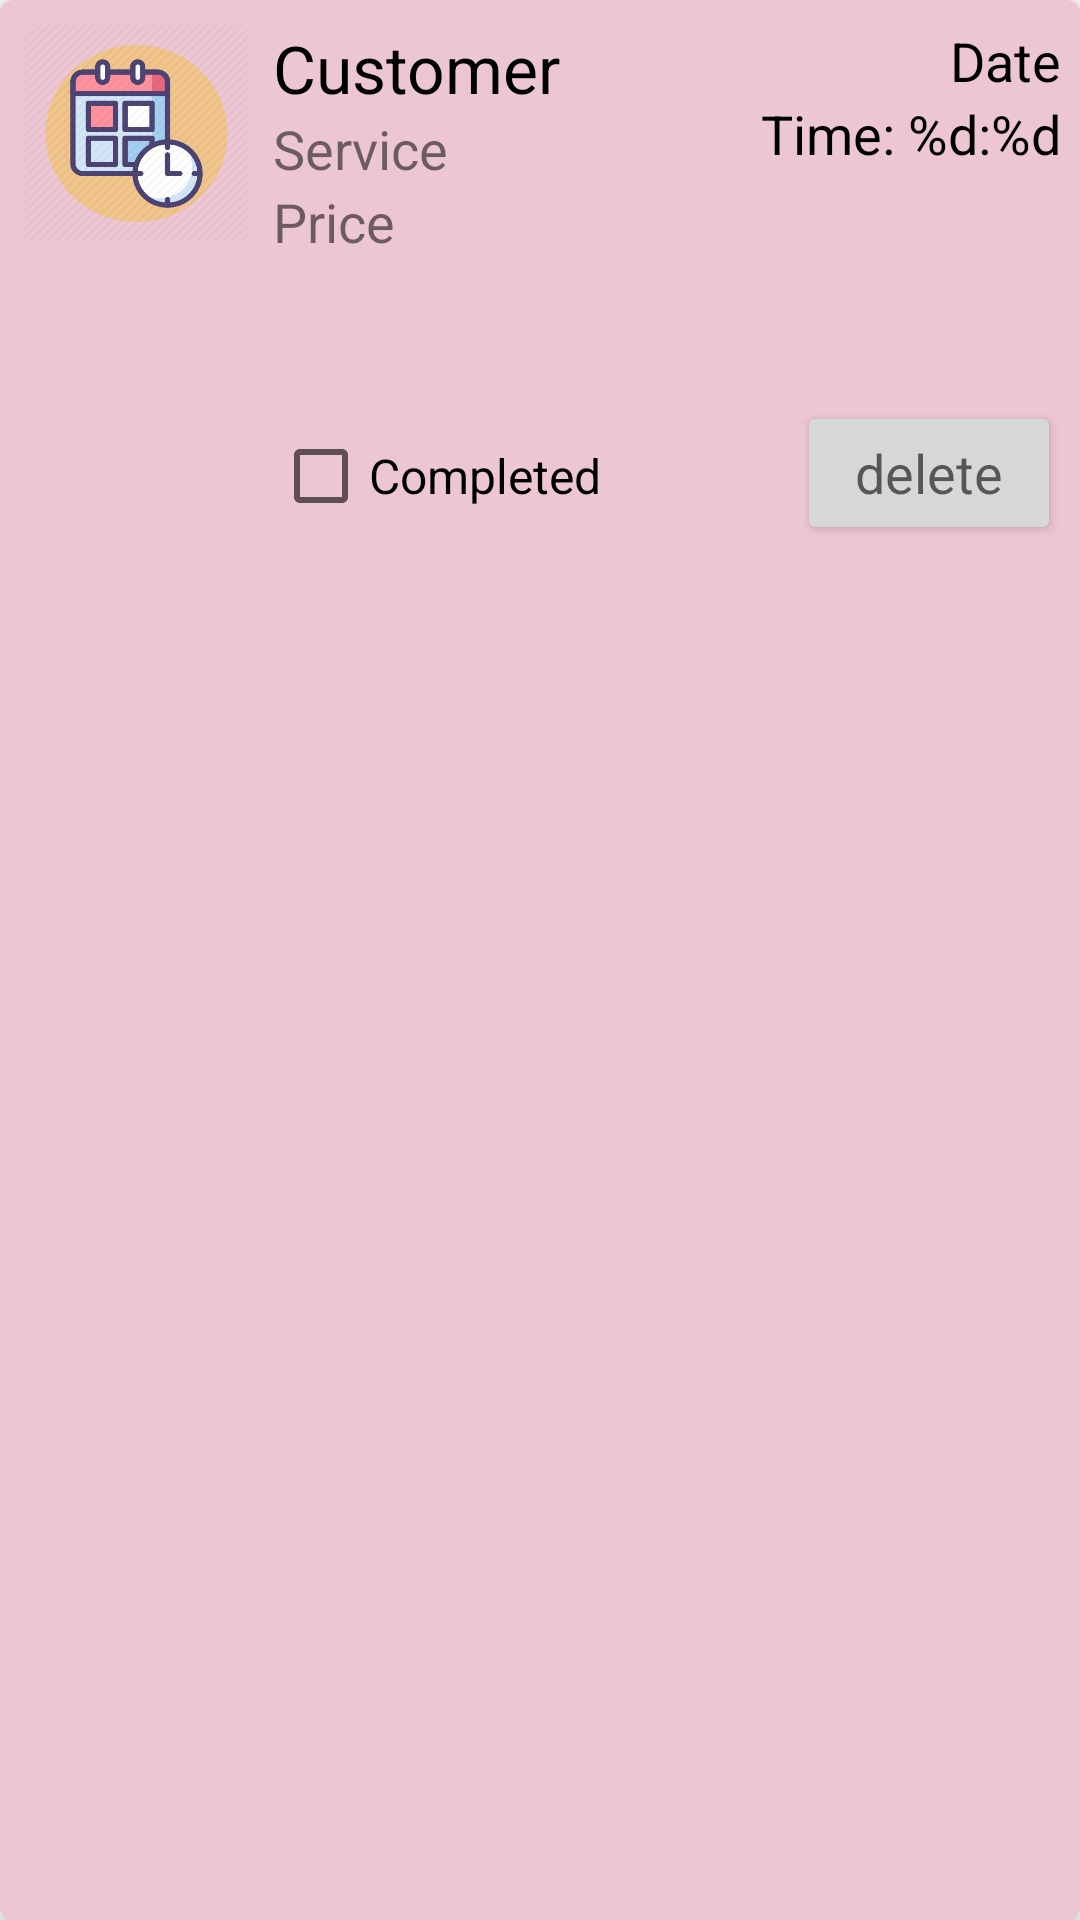

Screen size 1080x1920. Icon name, then its center in pixels as (x,y):
calendar: (136,133)
